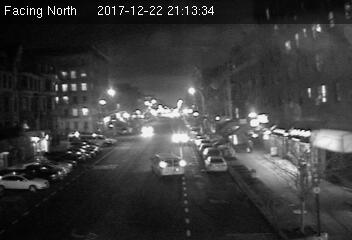car: (203, 155, 229, 173), (171, 130, 189, 144)
truck: (151, 150, 185, 179)
